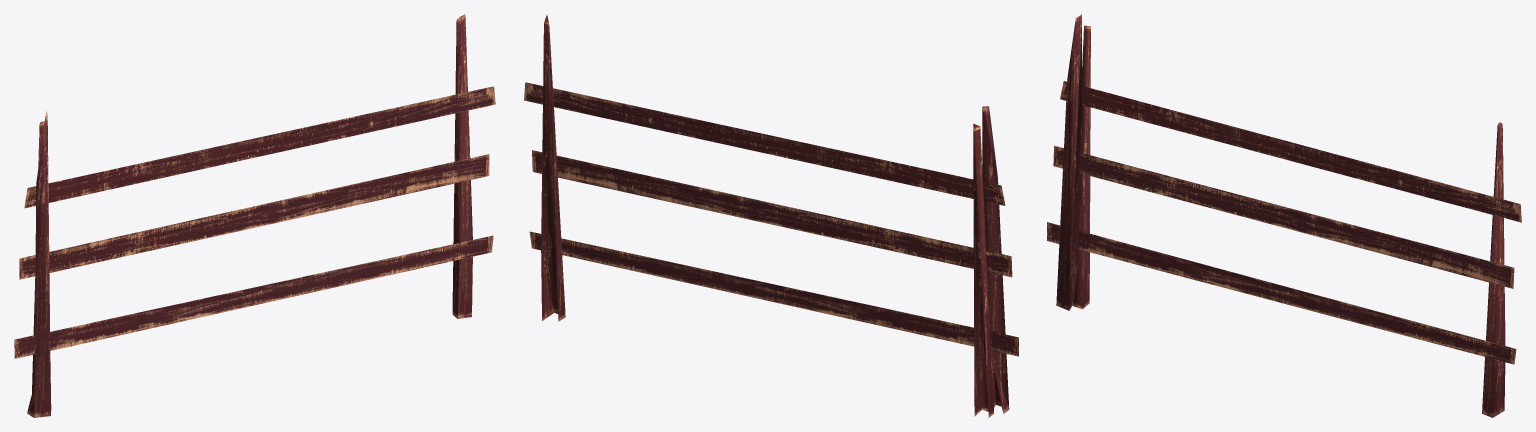
The model's file is Fence.fbx.
The picture shows the model from 3 angles, left to right: view 1: azimuth 30°, elevation 25°; view 2: azimuth 150°, elevation 25°; view 3: azimuth 330°, elevation 25°; orthographic projection. The views are drawn at different scales.
Parts seen in each view (by area): view 1: Fence; view 2: Fence; view 3: Fence.
Part boxes in pixels (<box>): Fence: <box>14,14,495,417</box>; Fence: <box>524,15,1018,417</box>; Fence: <box>1047,14,1521,417</box>.
Size of the model in its own units: 37.13 by 22.61 by 2.28.
